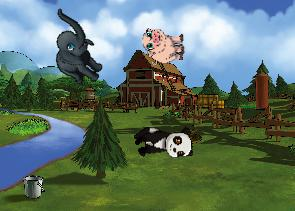elephant: (31, 7, 119, 91)
panda: (133, 126, 193, 159)
pig: (142, 26, 185, 65)
